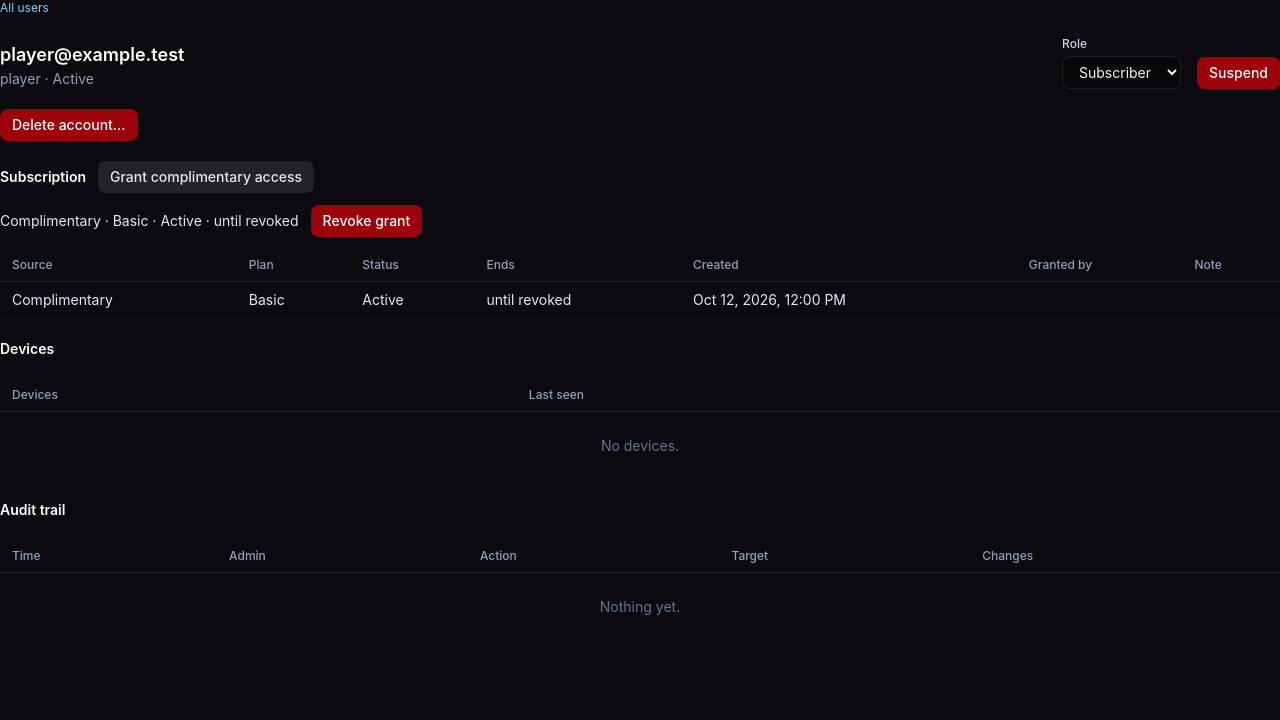
Scenario: grant and revoke polish (M8d minors) › after a revoke, focus moves to the Grant button
Click the button "Revoke grant" at [366, 221], box left=311, top=205, right=422, bottom=237
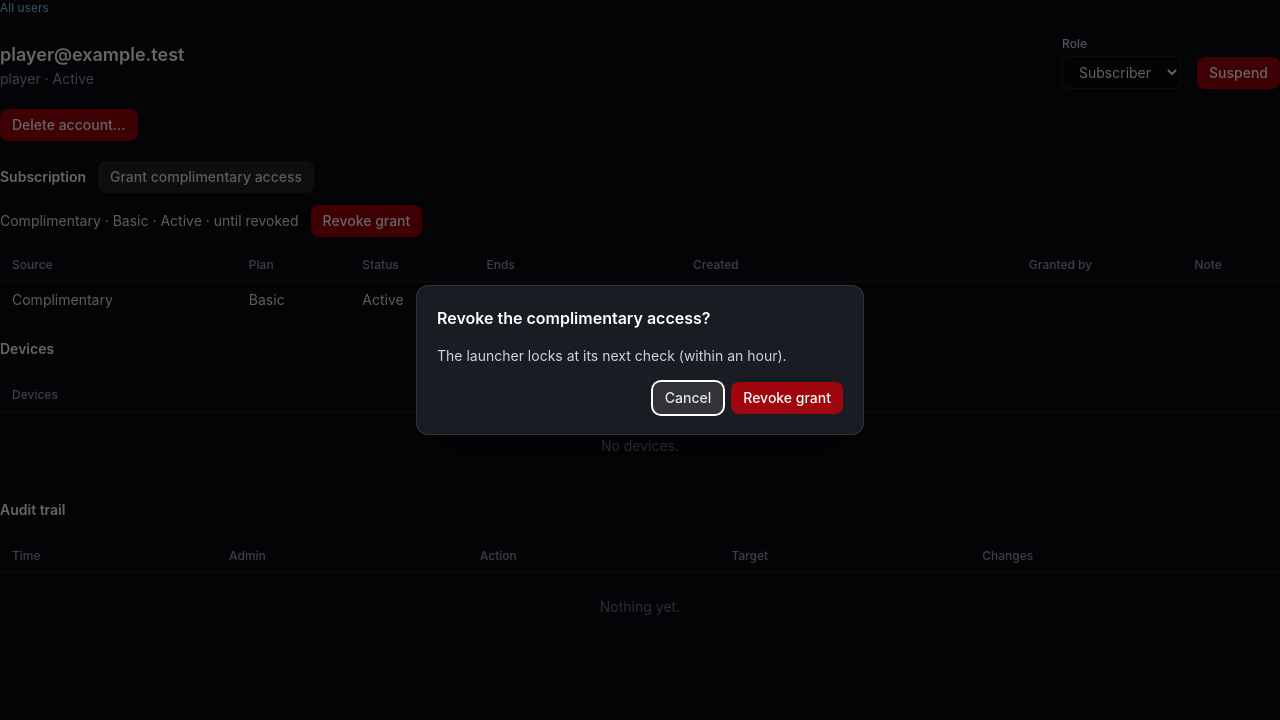
Click the button "Revoke grant" at [787, 398], box left=731, top=382, right=843, bottom=414
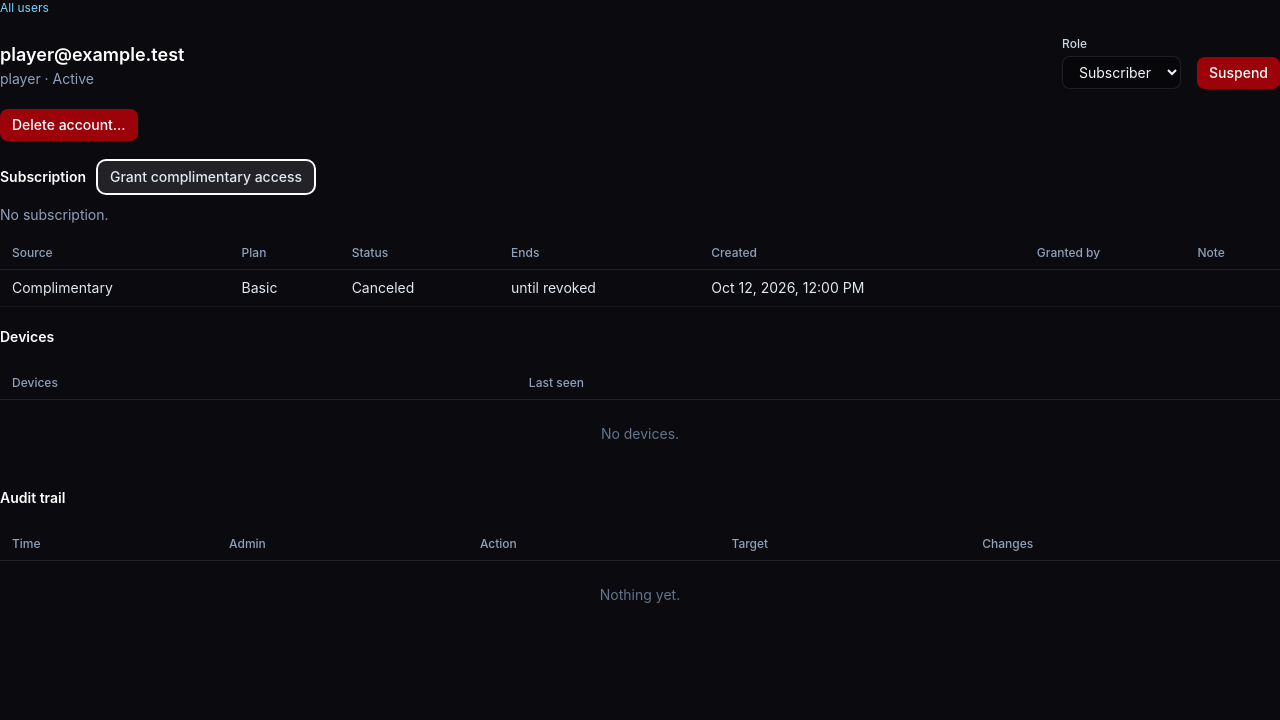
Expected: the text "No subscription." is shown, left=0, top=206, right=109, bottom=223
